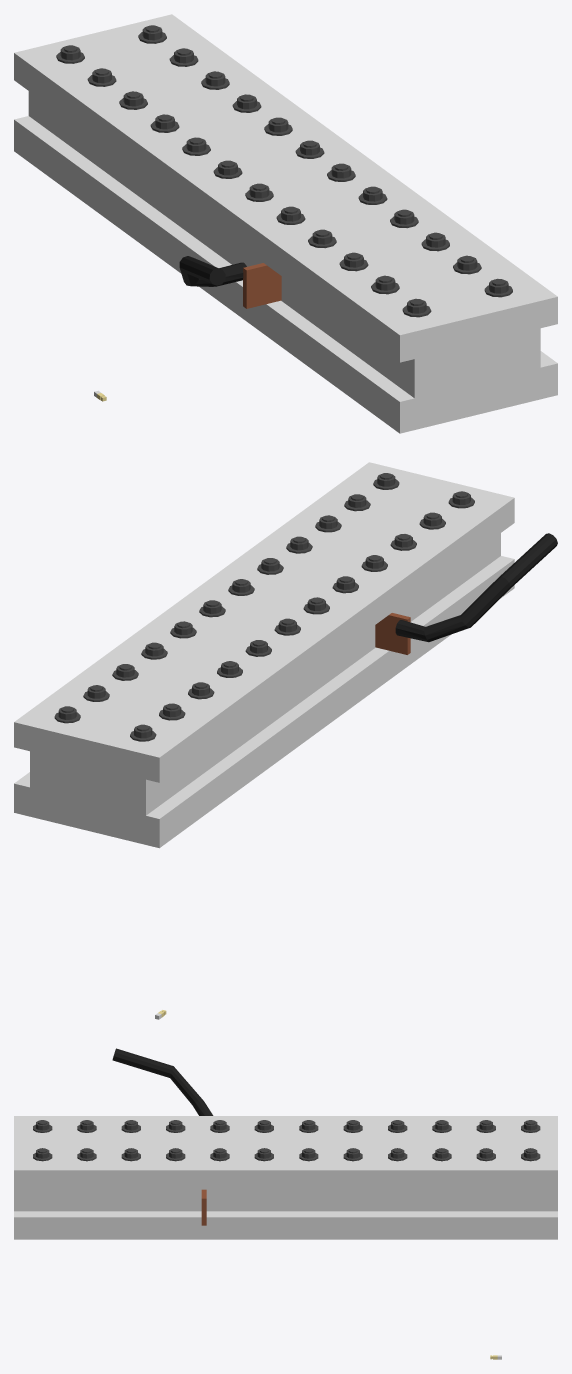
Rendered from railgun.obj.
3 renders of one model, top to bottom at view 1: azimuth 30°, elevation 25°; view 2: azimuth 150°, elevation 25°; view 3: azimuth 270°, elevation 25°, orthographic. The views are drawn at different scales.
Visible parts, largest first — view 1: user defined2, user defined4, cube5, cylinder6; view 2: user defined2, user defined4, cylinder6, cube5; view 3: user defined2, user defined4, cylinder6.
Boxes of the visible parts, <box> form: user defined2: <box>14,14,557,433</box>; user defined4: <box>56,25,512,317</box>; cube5: <box>94,263,281,401</box>; cylinder6: <box>179,256,246,286</box>; user defined2: <box>14,462,514,848</box>; user defined4: <box>54,473,474,741</box>; cylinder6: <box>395,533,557,642</box>; cube5: <box>155,613,410,1019</box>; user defined2: <box>14,1116,557,1239</box>; user defined4: <box>33,1120,540,1161</box>; cylinder6: <box>112,1048,213,1115</box>.
Bounding box in the file's own units: 554 × 639 × 1226.
5 materials, 5 textured.
